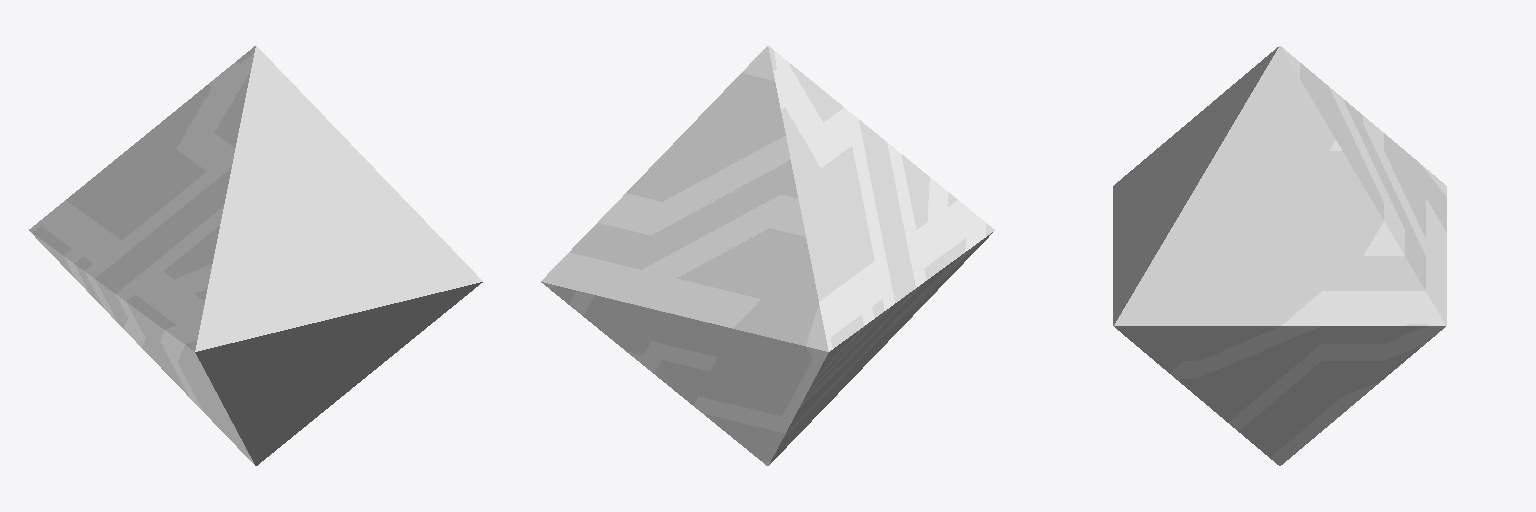
3 views of the same model, side by side, from view 1: azimuth 30°, elevation 25°; view 2: azimuth 150°, elevation 25°; view 3: azimuth 270°, elevation 25° (orthographic).
Parts seen in each view (by area): view 1: 立方体; view 2: 立方体; view 3: 立方体.
Boxes of the visible parts, <box> form: 立方体: <box>29,46,482,465</box>; 立方体: <box>541,46,994,465</box>; 立方体: <box>1113,46,1446,465</box>.
Size of the model in its own units: 2 by 2.79 by 2.
1 materials, 1 textured.